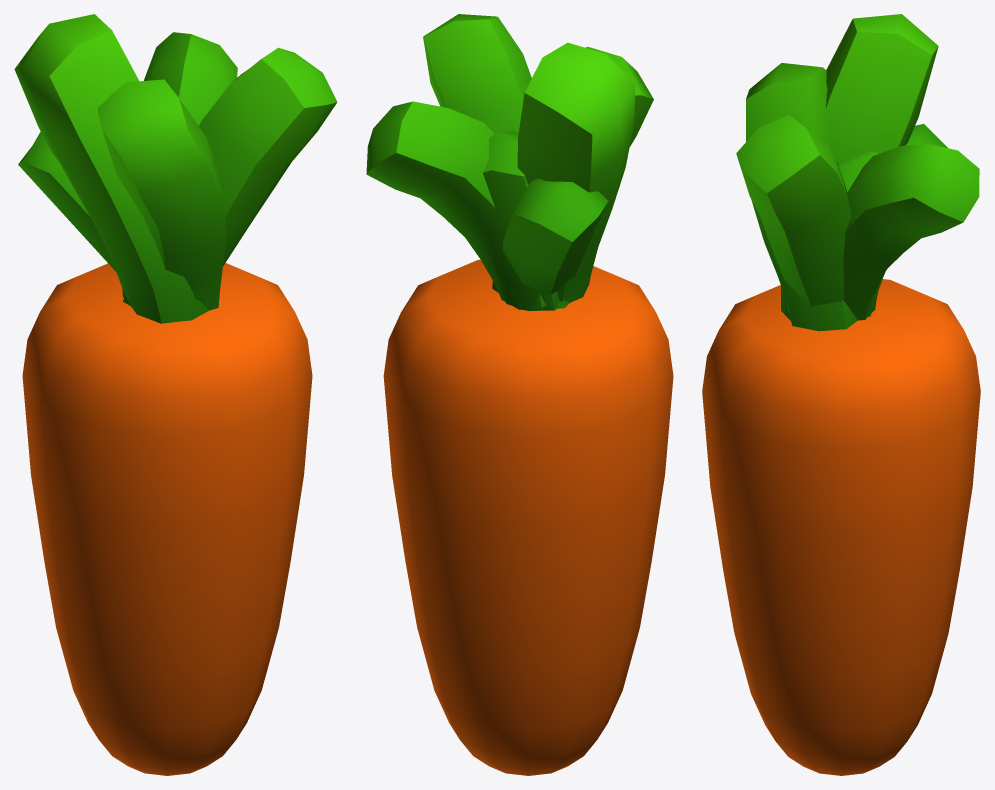
Rendered from Farm_Crop_Carrot_01.glb.
3 views of the same model, side by side, from view 1: azimuth 30°, elevation 25°; view 2: azimuth 150°, elevation 25°; view 3: azimuth 270°, elevation 25° (orthographic). The views are drawn at different scales.
Visible parts, largest first — view 1: Farm_Crop_Carrot_01; view 2: Farm_Crop_Carrot_01; view 3: Farm_Crop_Carrot_01.
Part boxes in pixels (left/top/right/bottom): Farm_Crop_Carrot_01: left=14, top=14, right=337, bottom=775; Farm_Crop_Carrot_01: left=366, top=14, right=673, bottom=775; Farm_Crop_Carrot_01: left=702, top=14, right=980, bottom=775.
Size of the model in its own units: 0.4971 by 1.37 by 0.4863.
1 material, 1 textured.
